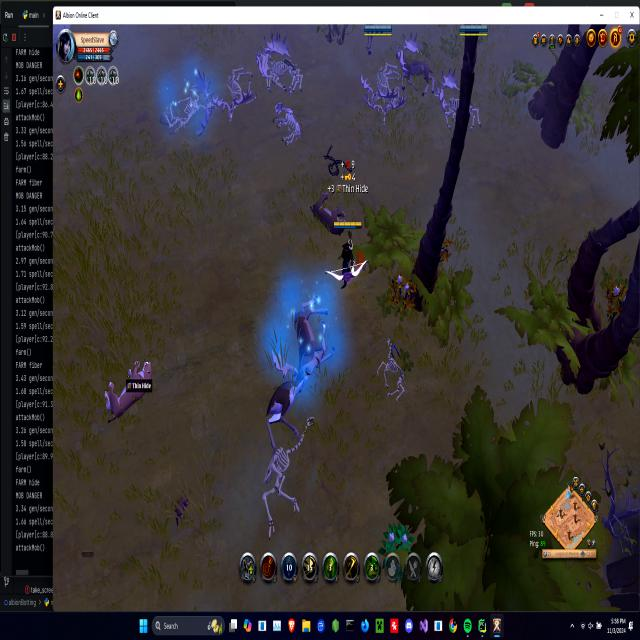hide: (382, 516, 413, 558), (387, 269, 414, 311), (603, 274, 626, 319)
mob: (102, 354, 155, 423), (290, 296, 330, 374), (260, 374, 303, 432), (306, 186, 348, 236)
ore: (395, 43, 437, 97)
red: (333, 215, 364, 286), (456, 24, 491, 40), (363, 24, 394, 38)
